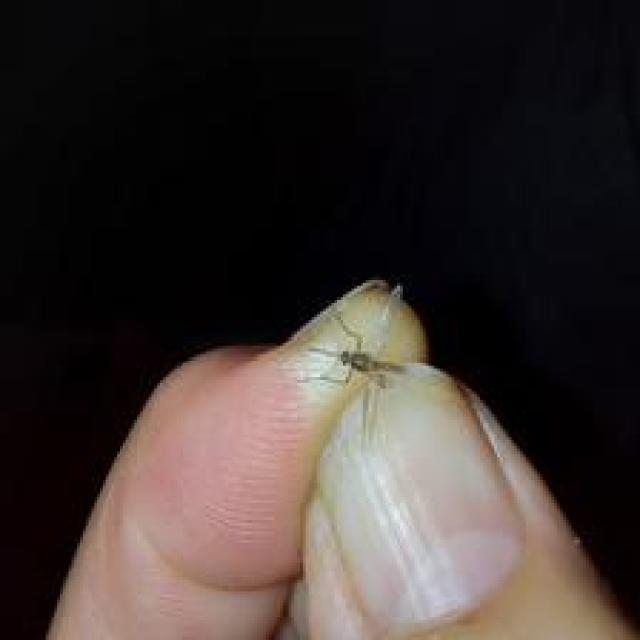Aedes albopictus: (266, 277, 528, 640)
